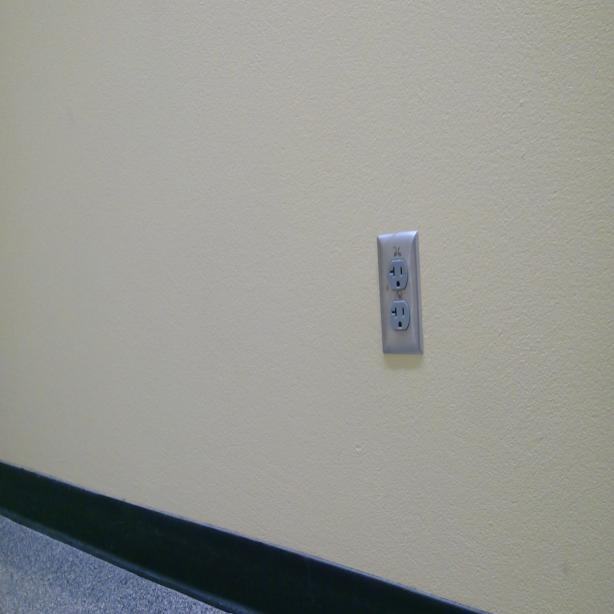typeb: (389, 301, 408, 334), (390, 262, 408, 292)
